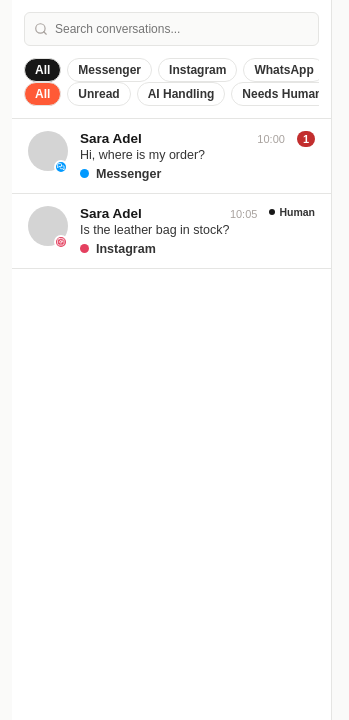
Test case: Inbox channel separation › shows an empty state for a channel with no conversations
Expected: the text "Hi, where is my order?" is shown, [80, 148, 205, 162]
Click the button "WhatsApp" at point(284, 70), box [243, 58, 325, 82]
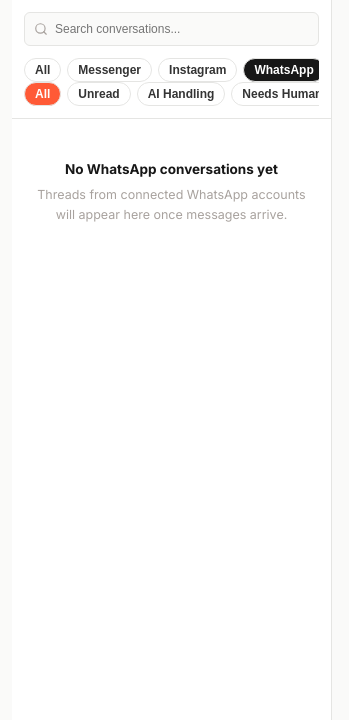
Expected: the text "No WhatsApp conversations yet" is shown, [65, 161, 278, 177]
Expected: the button "Hi, where is my order?" is gone
